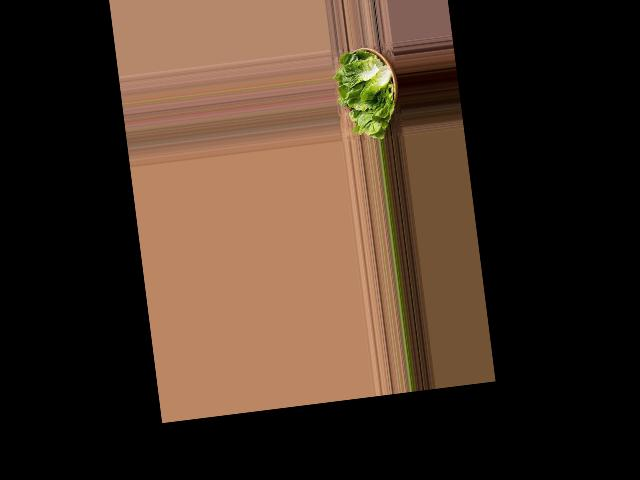lettuce: (333, 40, 403, 141)
